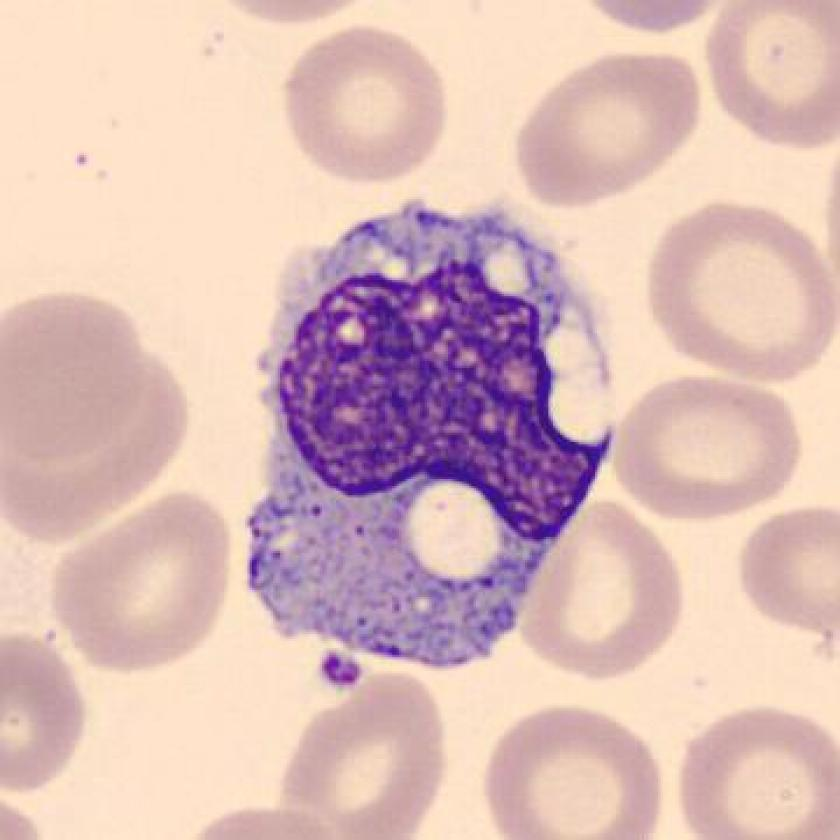monocyte: (230, 184, 636, 679)
